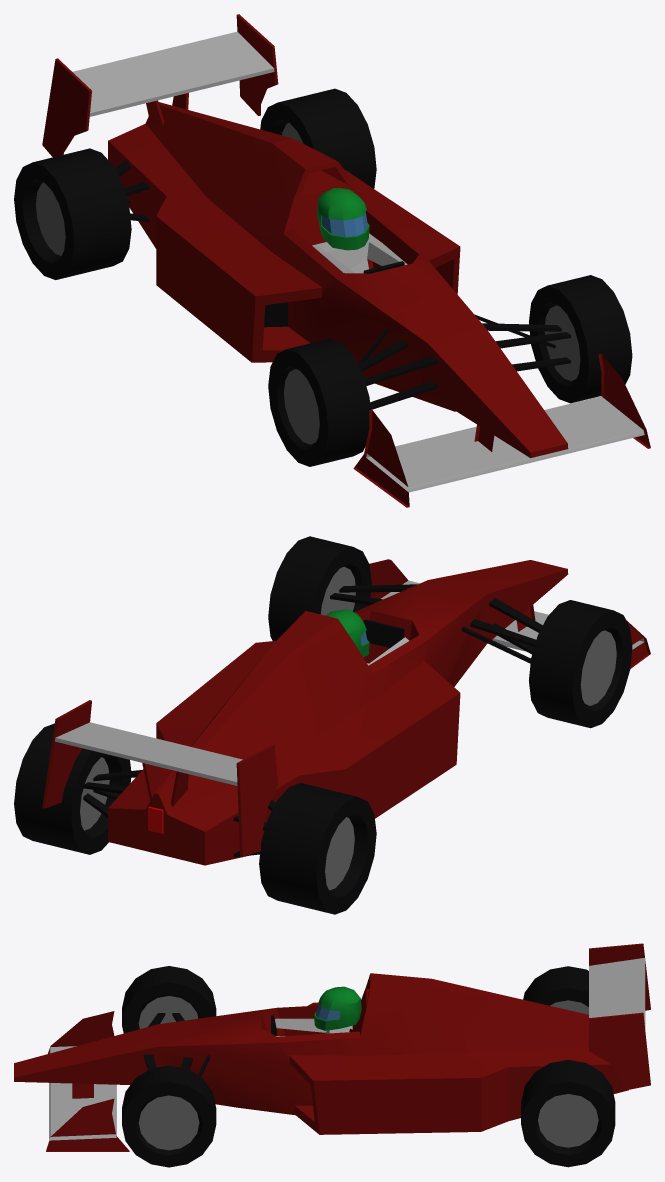
File: race_car.obj
3 renders of one model, top to bottom at view 1: azimuth 30°, elevation 25°; view 2: azimuth 150°, elevation 25°; view 3: azimuth 270°, elevation 25°, orthographic. The views are drawn at different scales.
Parts seen in each view (by area): view 1: car-formula-red_Cube.826; view 2: car-formula-red_Cube.826; view 3: car-formula-red_Cube.826.
Part boxes in pixels (x1,y1,x2,y2): car-formula-red_Cube.826: (14, 14, 650, 507); car-formula-red_Cube.826: (14, 536, 650, 914); car-formula-red_Cube.826: (14, 943, 650, 1167).
Size of the model in its own units: 0.9431 by 0.4961 by 2.19.
